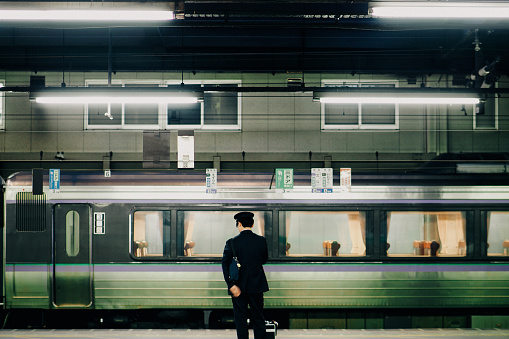em pe: (227, 213, 274, 339)
